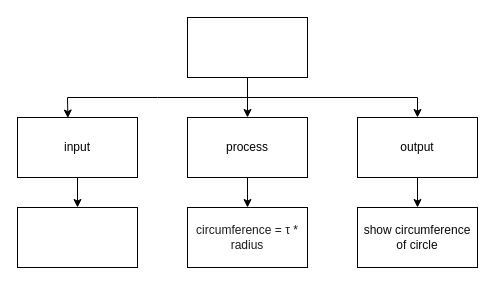
Image size: 495x285. Some labels were removed from this diagram. Each missing label, with the box of its shape:
circumference of circle: (186, 16, 308, 78)
get radius: (16, 206, 138, 268)
